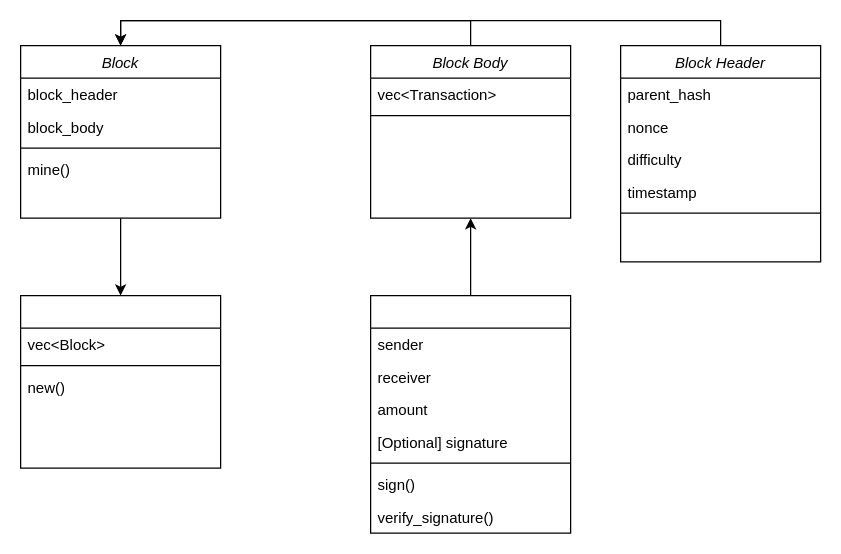
The diagram is 841 pixels wide and 554 high, and some of its shapes have lost their labels. The box of each missing label's shape, as (x1, y1, x2, y2) in pixels:
Chain: (19, 294, 221, 468)
Transaction: (369, 294, 571, 533)
